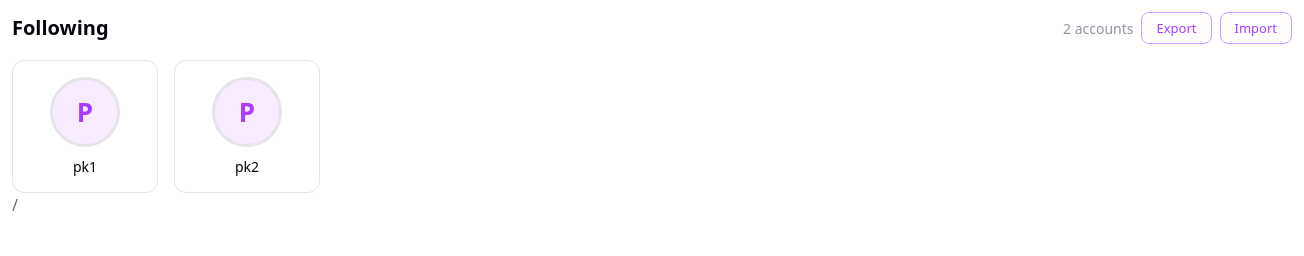
Test: NostrFollowing › exports followed accounts to a txt file
This screenshot has width=1304, height=256.
Step 1. Click the button "Export" → (1176, 28), box [1142,12,1212,44]
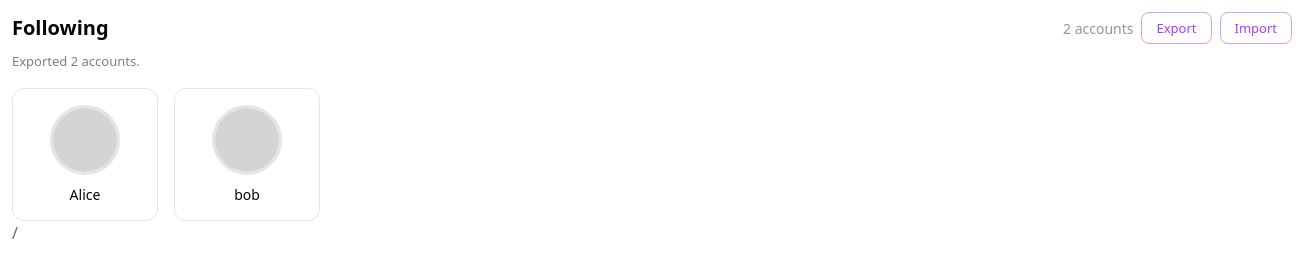
Expected: the message reads "Exported 2 accounts.", [12,52,140,70]
